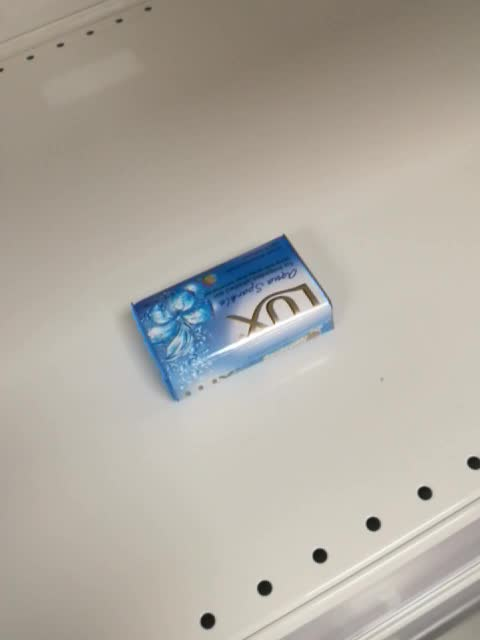soap: (128, 232, 336, 402)
